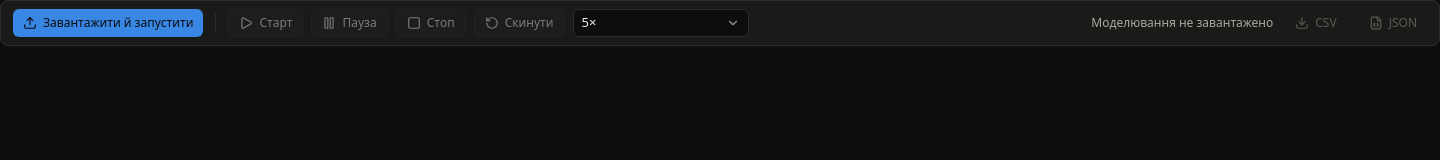
simulation lifecycle controls › shows API failures including validation details
Click the button "Завантажити й запустити" at (108, 23), box [13,9,204,37]
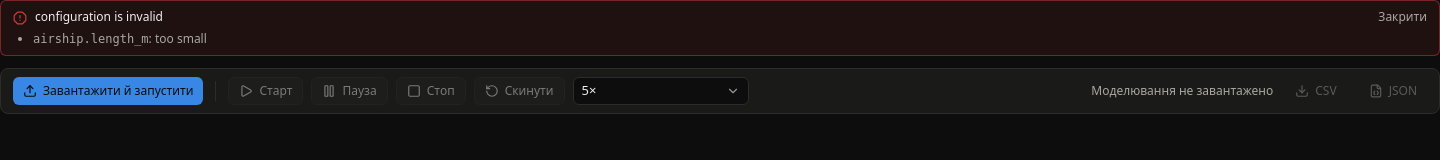
Now the message shows "configuration is invalid", box [35,8,163,25]
Now the text "airship.length_m" is shown, box [33,32,149,46]
